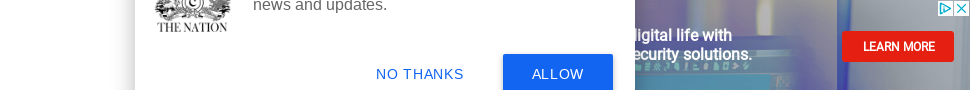fake_button: (487, 43, 624, 90), (355, 47, 481, 90), (831, 25, 960, 67)
